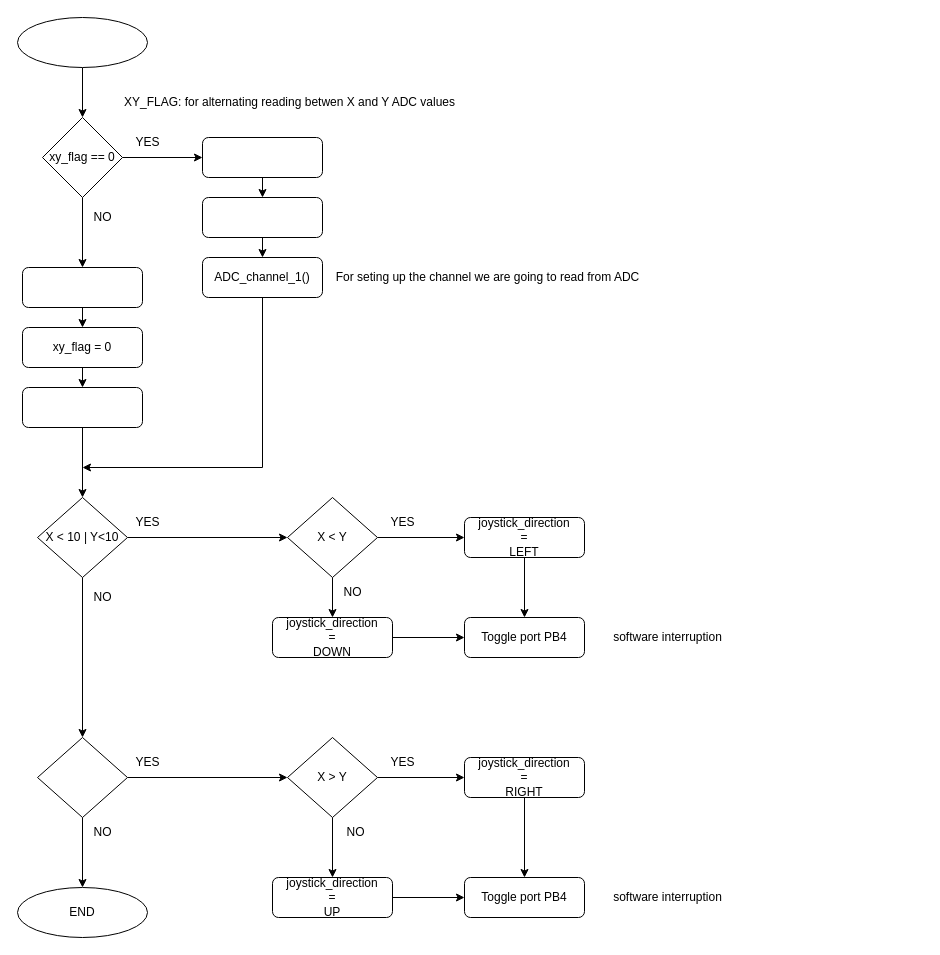
Image size: 940x955. Some labels were removed from this diagram. Each missing label, with the centre of its shape:
"ADC_channel_0()" belongs at point 82,407.
"ISR(ADC_VECT)" belongs at point 82,42.
"X = ADC" belongs at point 262,157.
"X >1023 | Y>1023" belongs at point 82,777.
"xy_flag = 1" belongs at point 262,217.
"Y = ADC" belongs at point 82,287.
